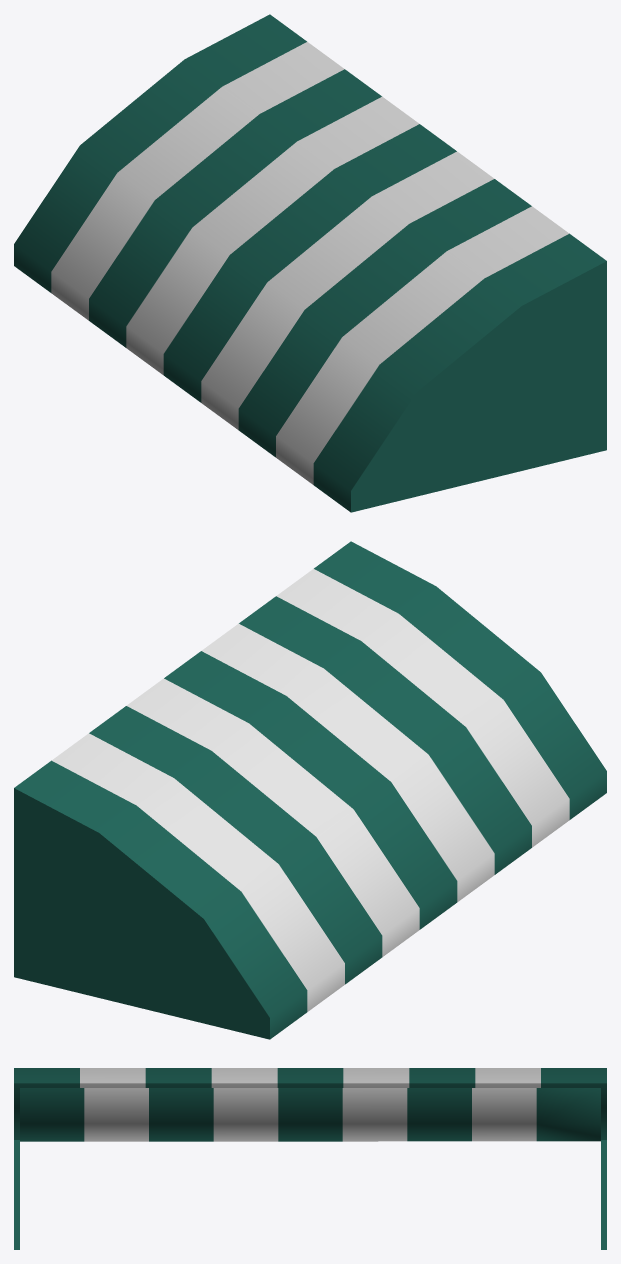
The model's file is Awning_1_J.fbx.
The picture shows the model from 3 angles, top to bottom: view 1: azimuth 30°, elevation 25°; view 2: azimuth 150°, elevation 25°; view 3: azimuth 270°, elevation 25°; orthographic projection. The views are drawn at different scales.
Visible parts, largest first — view 1: Awning_1_J; view 2: Awning_1_J; view 3: Awning_1_J.
Part boxes in pixels (left/top/right/bottom): Awning_1_J: left=14, top=14, right=606, bottom=512; Awning_1_J: left=14, top=541, right=606, bottom=1039; Awning_1_J: left=14, top=1068, right=606, bottom=1249.
Bounding box in the file's own units: 123 × 86.57 × 280.
